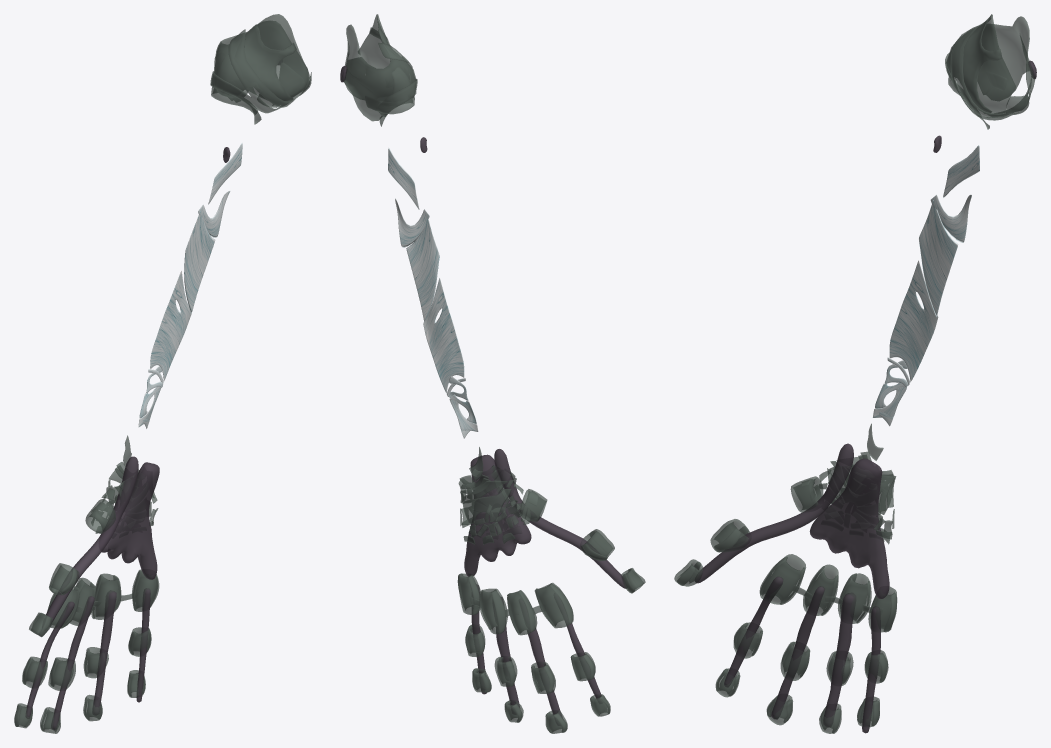
File: Connective.Upper_limb.Interosseous_membrane_upper_limb_R.000.obj
3 renders of one model, left to right at view 1: azimuth 30°, elevation 25°; view 2: azimuth 150°, elevation 25°; view 3: azimuth 330°, elevation 25°, orthographic. The views are drawn at different scales.
Parts seen in each view (by area): view 1: Connective:Upper_limb:Interosseous_membrane_upper_limb_R.000_Upp; view 2: Connective:Upper_limb:Interosseous_membrane_upper_limb_R.000_Upp; view 3: Connective:Upper_limb:Interosseous_membrane_upper_limb_R.000_Upp.
Part boxes in pixels (x1,y1,x2,y2): Connective:Upper_limb:Interosseous_membrane_upper_limb_R.000_Upp: (14, 14, 311, 733); Connective:Upper_limb:Interosseous_membrane_upper_limb_R.000_Upp: (340, 14, 645, 733); Connective:Upper_limb:Interosseous_membrane_upper_limb_R.000_Upp: (674, 14, 1036, 733).
Size of the model in its own units: 1.02 by 2.25 by 0.3071.
